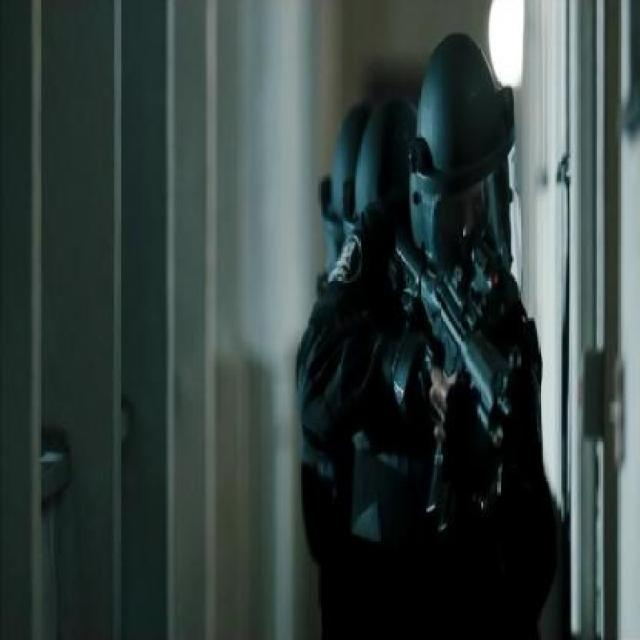gun: (384, 160, 526, 457)
